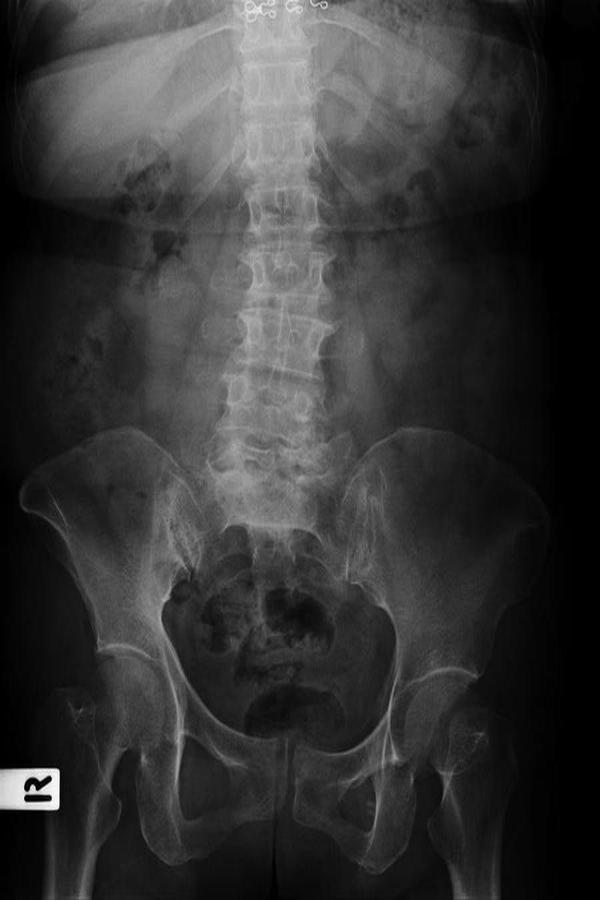lumbar scoliosis: (217, 4, 334, 542)
